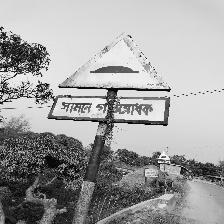Speed-breaker: (52, 33, 172, 128)
